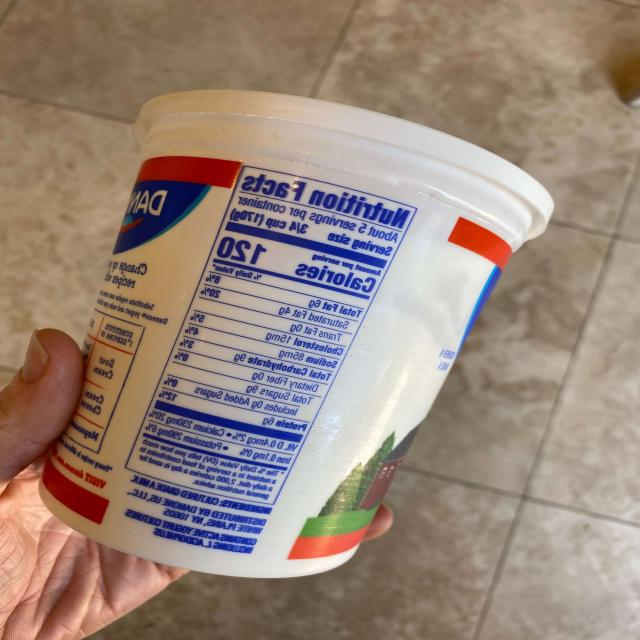plastic: (41, 87, 554, 582)
